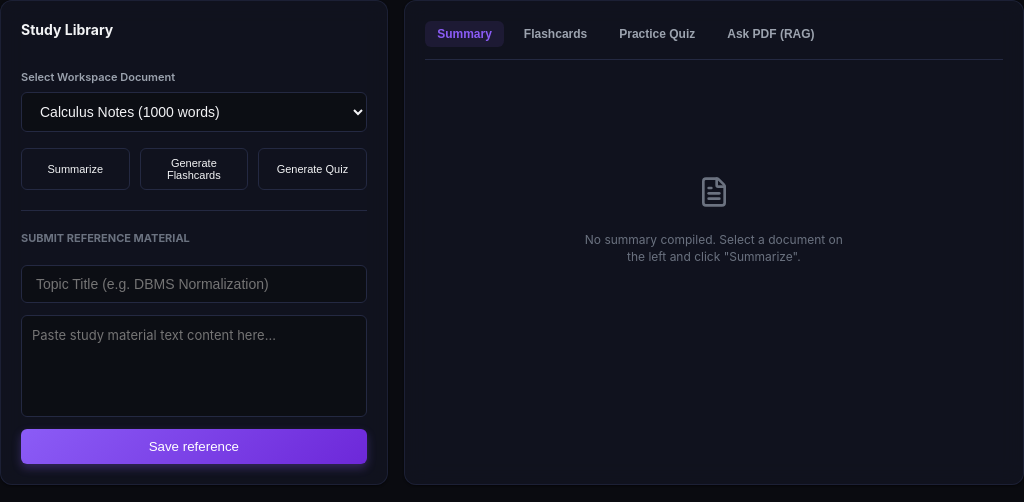
it: DocumentsView › allows analyzing a selected document for quiz and playing/submitting/resetting quiz
The width and height of the screenshot is (1024, 502).
Select "Calculus Notes (1000 words)" in the dropdown at {"x": 194, "y": 112}, box [21,92,367,132]
Click the button "Generate Quiz" at {"x": 312, "y": 169}, box [258,148,367,190]
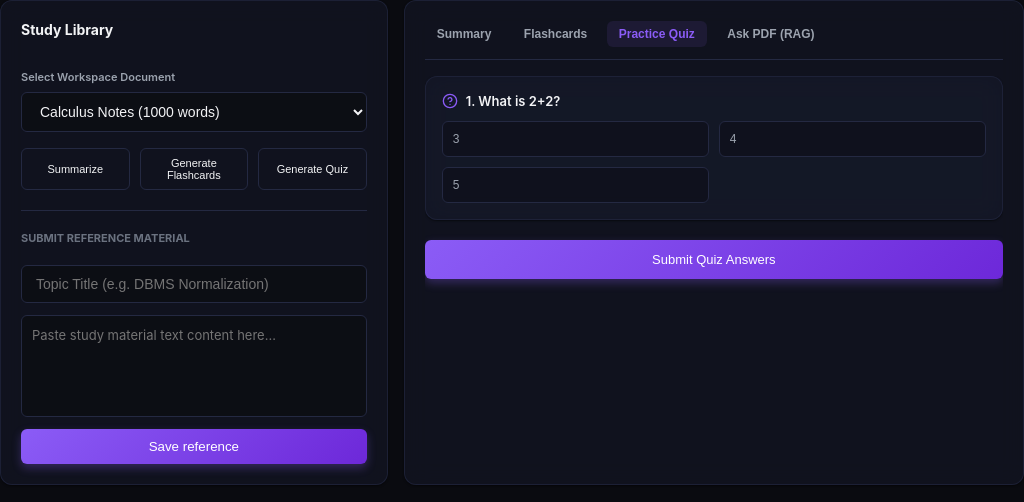
Now the text "1. What is 2+2?" is shown, box [466,93,560,109]
Select option '4'
Click the button "4" at {"x": 733, "y": 139}, box [719,121,986,157]
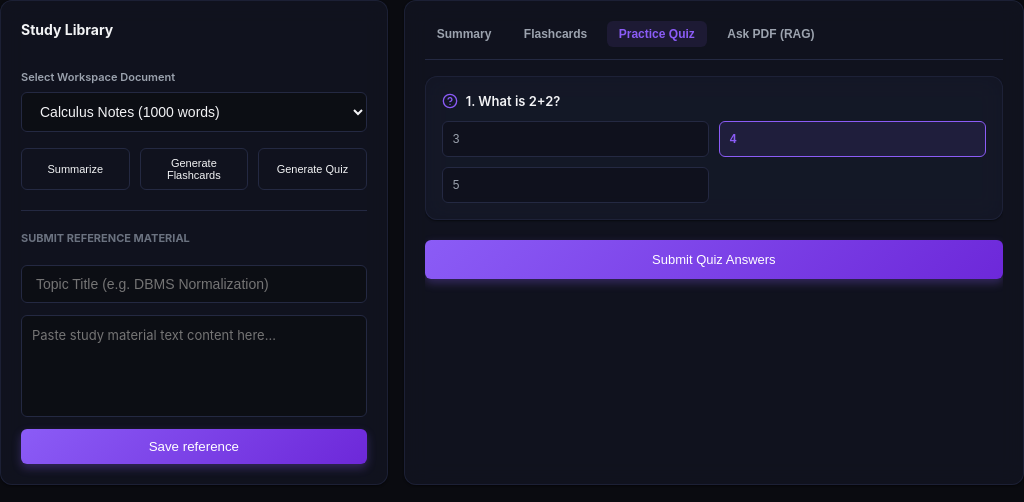
Click Submit Answers
Click the button "Submit Quiz Answers" at {"x": 714, "y": 260}, box [425,240,1003,279]
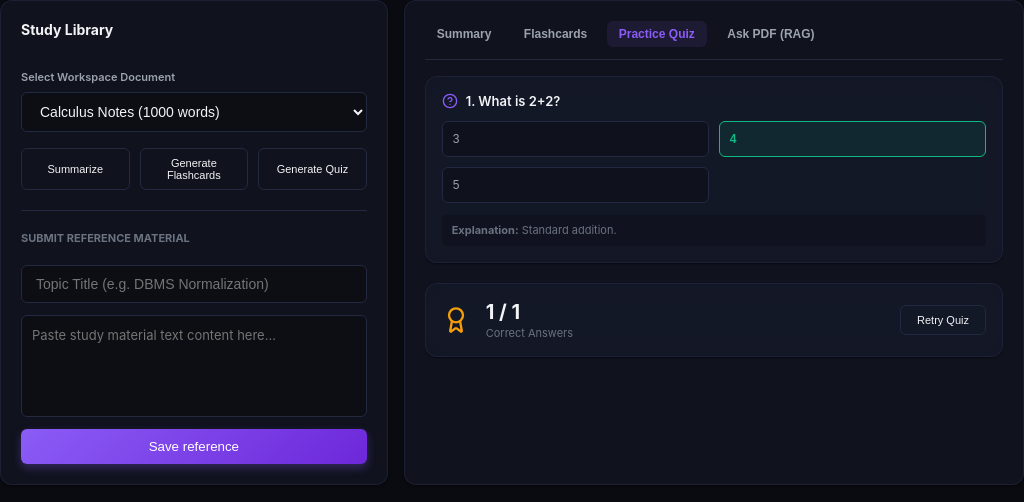
Now the text "1 / 1" is shown, box [486,300,520,324]
Now the text "Explanation: Standard addition." is shown, box [442,215,986,246]
Reset quiz
Click the button "Retry Quiz" at {"x": 943, "y": 320}, box [900,305,986,335]
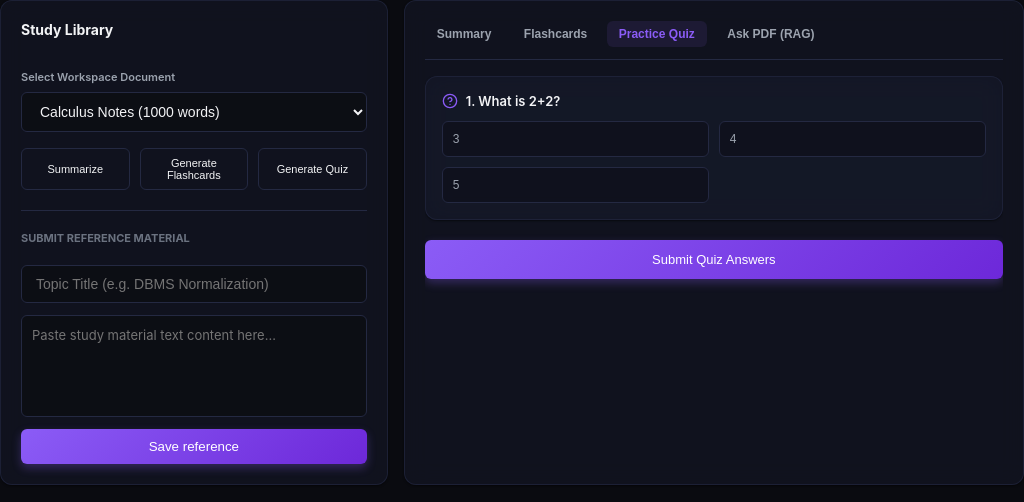
Now the text "1 / 1" is gone
